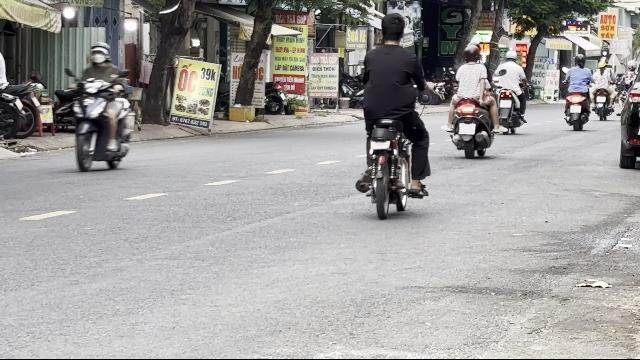helmet: (88, 42, 110, 66), (462, 44, 480, 62)
licenseplate: (459, 124, 475, 134)
motorcyclist: (351, 11, 434, 219), (66, 42, 136, 172), (443, 44, 497, 158)
nohelmet: (378, 12, 406, 44)
